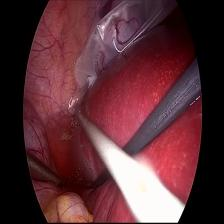Irrigator: (71, 107, 89, 128)
Specimen Bag: (73, 2, 171, 87)
